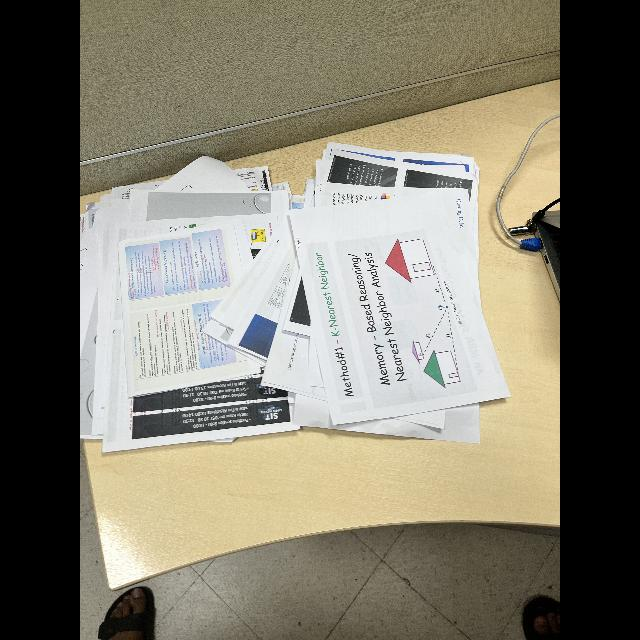reuseable_paper: (80, 148, 510, 464)
